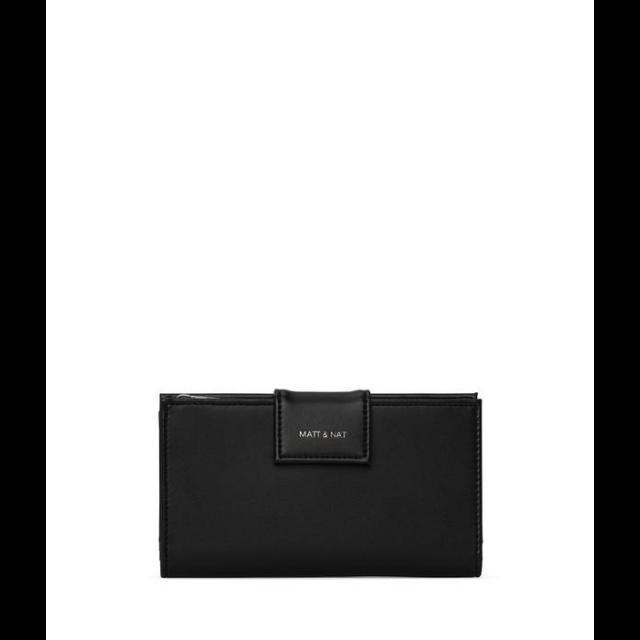Wallet: (160, 390, 482, 578)
